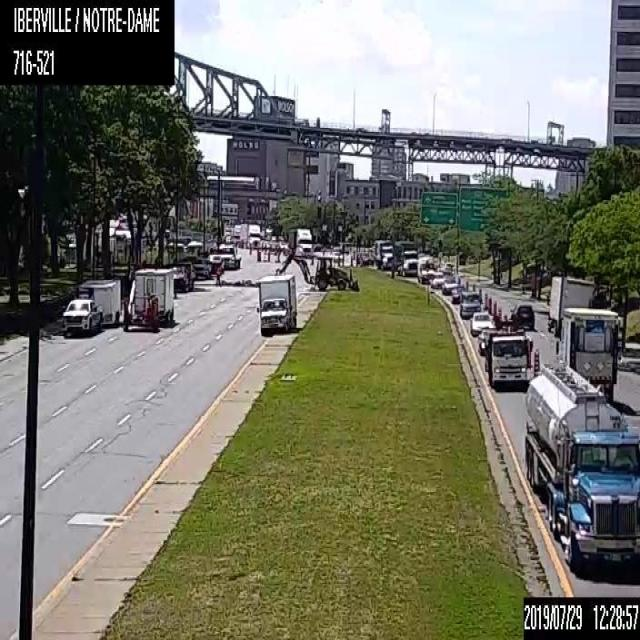construction: (527, 338, 540, 373), (219, 277, 257, 287), (483, 291, 488, 309), (477, 285, 482, 302), (488, 297, 492, 313), (255, 251, 261, 261), (516, 329, 524, 336), (493, 300, 496, 318), (464, 280, 468, 291), (498, 306, 501, 320), (248, 244, 252, 254), (266, 252, 270, 261), (471, 282, 475, 290), (457, 276, 460, 286), (276, 254, 279, 262)
pedestrian: (215, 267, 220, 286)
vehicle: (521, 358, 639, 572), (556, 307, 616, 398), (275, 250, 358, 290), (124, 268, 172, 332), (546, 275, 594, 336), (484, 330, 530, 392), (256, 274, 296, 335), (77, 278, 121, 327), (58, 298, 102, 335), (393, 239, 417, 276), (168, 261, 194, 292), (508, 301, 535, 328), (288, 227, 311, 256), (468, 310, 492, 336), (458, 291, 479, 319), (374, 239, 393, 269), (219, 243, 240, 268), (417, 255, 434, 283), (240, 223, 259, 247), (193, 256, 211, 278), (477, 328, 491, 354), (208, 253, 224, 273), (442, 278, 457, 292), (430, 271, 443, 287), (451, 287, 462, 303), (438, 261, 451, 274)
